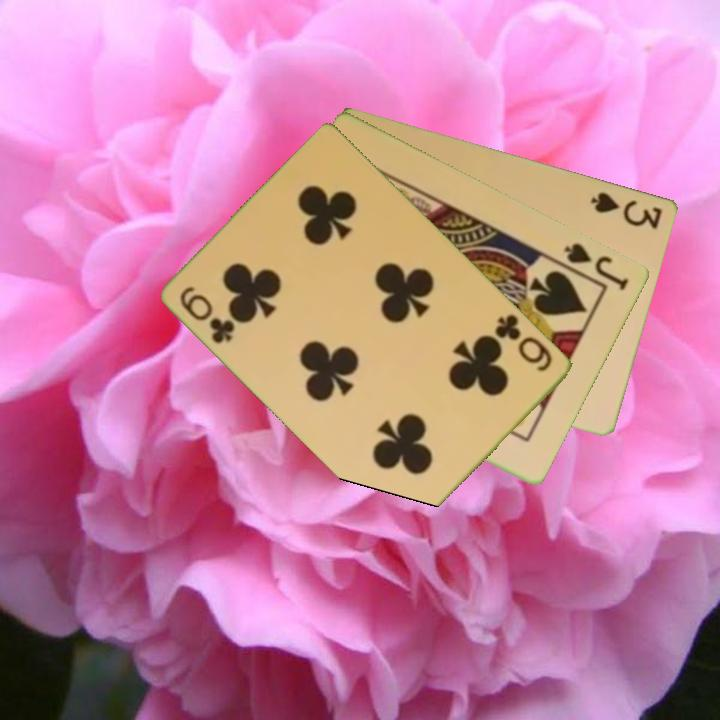3s: (587, 188, 666, 232)
6c: (492, 310, 556, 375), (177, 282, 239, 347)
Js: (560, 239, 632, 294)
